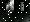person: (7, 2, 14, 15), (18, 3, 24, 12)
